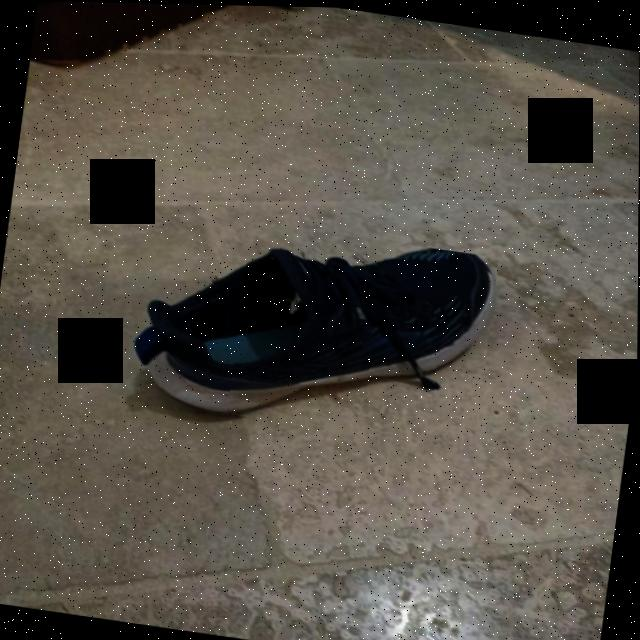shoe: (125, 207, 499, 450)
